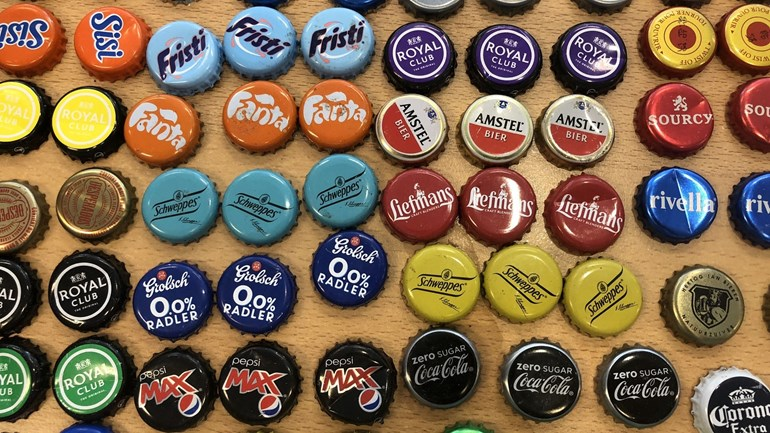amstel: (460, 93, 535, 169), (541, 94, 615, 170), (375, 94, 448, 163)
